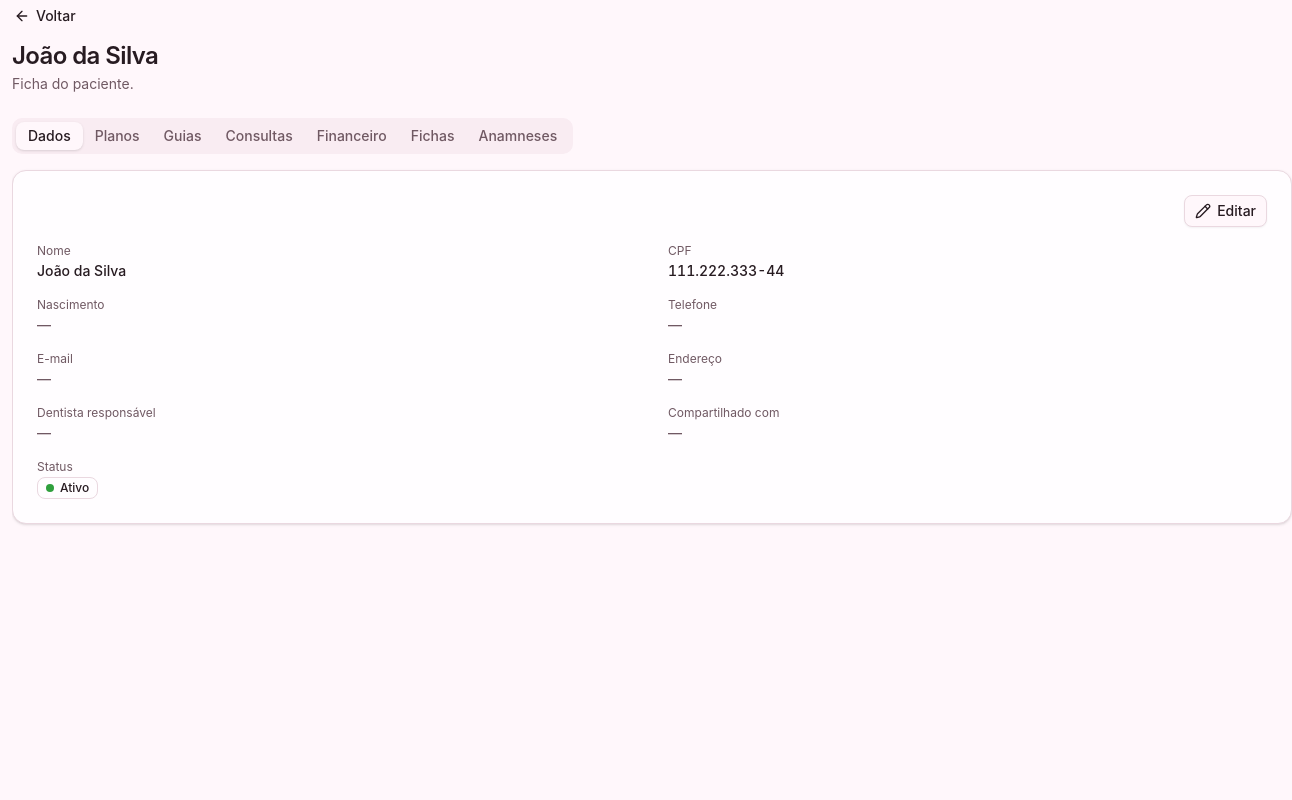
PacienteDetalhePage › exibe os dados (read-only) e alterna para edição inline
This screenshot has width=1292, height=800.
Expected: the heading "João da Silva" is shown, [12,40,158,72]
Expected: the text "111.222.333-44" is shown, [668,262,784,279]
Click the button "Editar".
click(1226, 211)  # box [1184,195,1267,227]
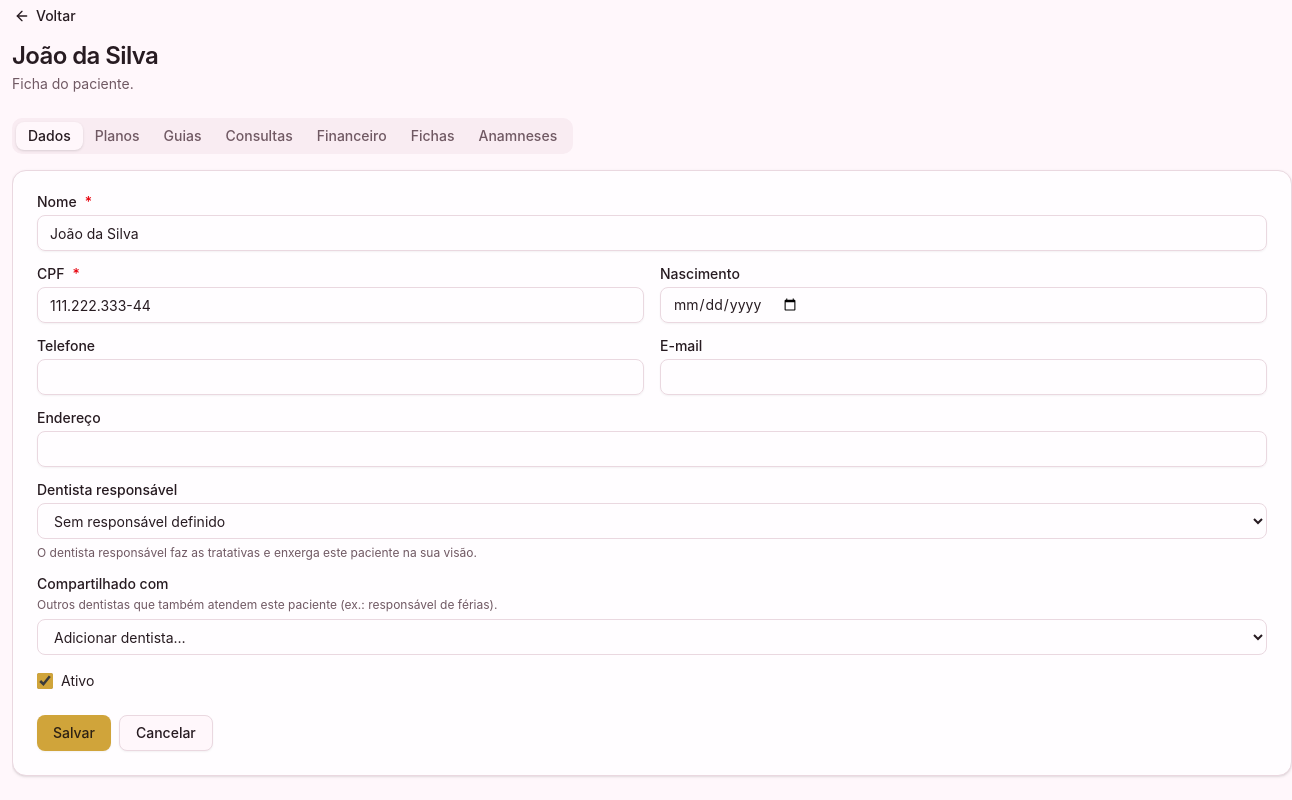
Expected: the field labelled "Nome *" holds "João da Silva", [37,215,1267,251]
